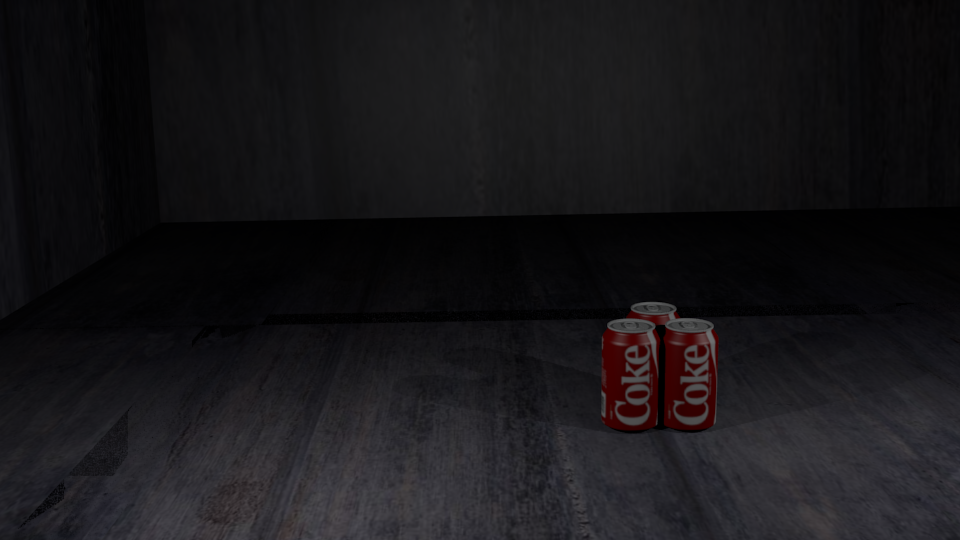cola_can: (659, 318, 718, 426), (602, 319, 659, 427), (626, 302, 680, 405)
